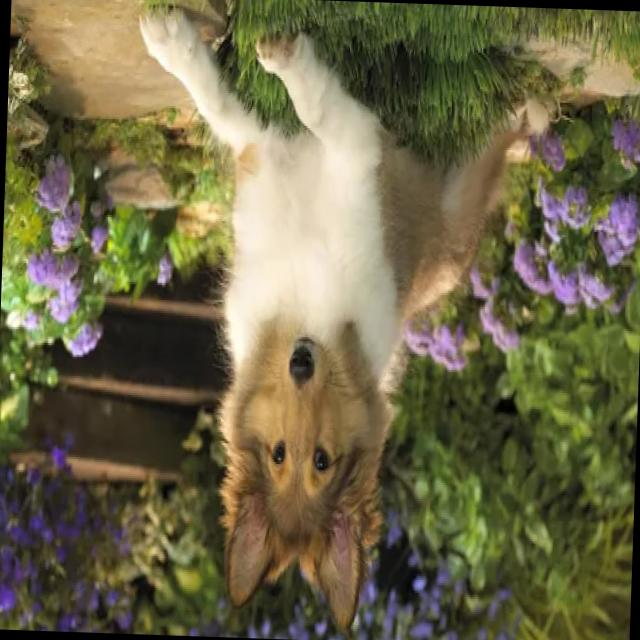Dog: (203, 38, 408, 631)
